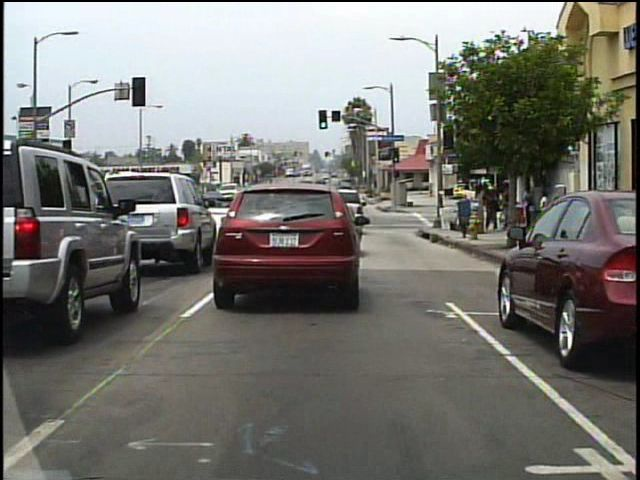person: (483, 184, 501, 236), (523, 185, 539, 232), (503, 187, 515, 226)
